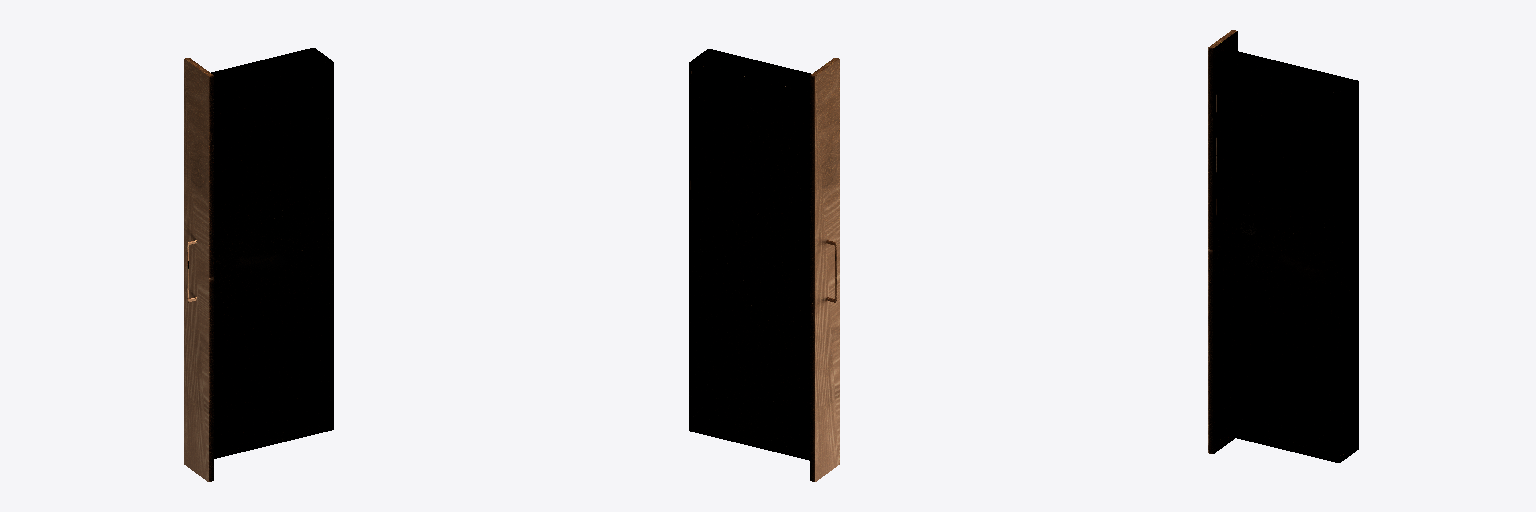
3 renders of one model, left to right at view 1: azimuth 30°, elevation 25°; view 2: azimuth 150°, elevation 25°; view 3: azimuth 330°, elevation 25°, orthographic.
Visible parts, largest first — view 1: free_13_cabinet_floor_dof_rootd_Aa003_t; view 2: free_13_cabinet_floor_dof_rootd_Aa003_t; view 3: free_13_cabinet_floor_dof_rootd_Aa003_t.
Boxes of the visible parts, x1=… form: free_13_cabinet_floor_dof_rootd_Aa003_t: x1=184, y1=48, x2=333, y2=481; free_13_cabinet_floor_dof_rootd_Aa003_t: x1=689, y1=49, x2=839, y2=481; free_13_cabinet_floor_dof_rootd_Aa003_t: x1=1208, y1=30, x2=1358, y2=462.
Bounding box in the file's own units: 0.582 × 1.64 × 0.1772.
1 materials, 1 textured.